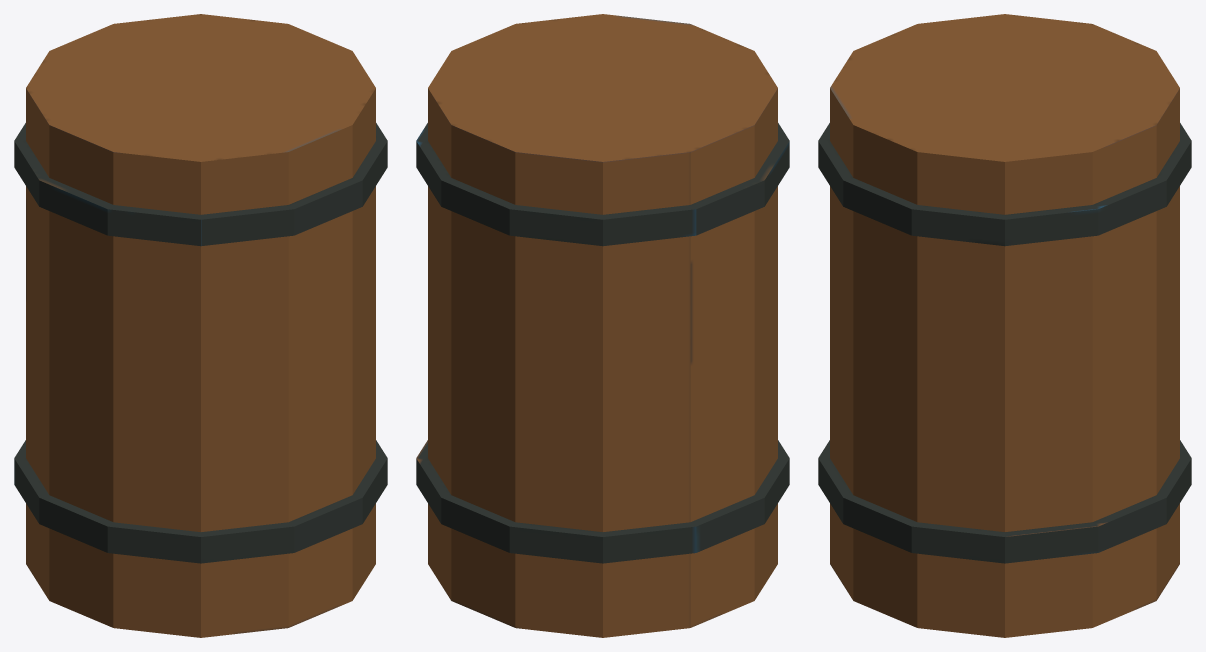
File: sud_99914b93.glb
3 renders of one model, left to right at view 1: azimuth 30°, elevation 25°; view 2: azimuth 150°, elevation 25°; view 3: azimuth 270°, elevation 25°, orthographic.
Visible parts, largest first — view 1: dum; view 2: dum; view 3: dum.
Boxes of the visible parts, box(x1,y1,x2,y2) form: dum: box(14, 14, 387, 637); dum: box(416, 14, 789, 637); dum: box(818, 14, 1191, 637).
Bounding box in the file's own units: 0.6384 × 0.8977 × 0.6384.
1 material, 1 textured.
